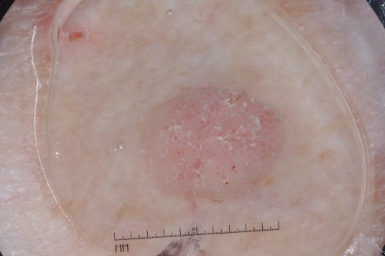seborrheic keratosis: (133, 79, 294, 202)
